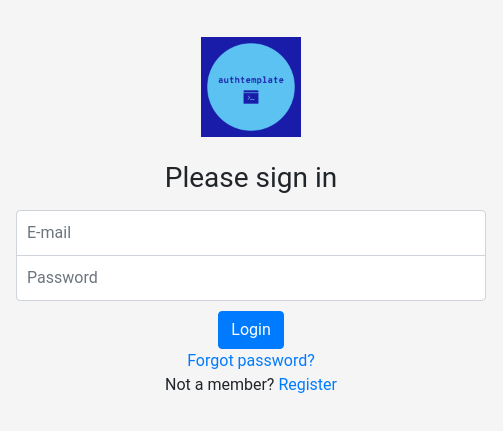
Login page checks › Email and password required
What coordinates should you click on to do the following:
click the button with test id "loginBtn"
I would click on:
 (251, 330)
Its box is [218,311,284,349].
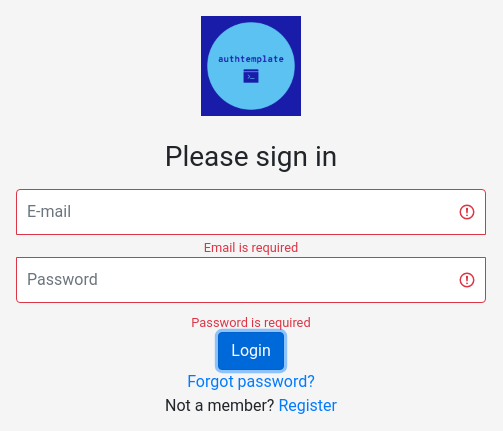
Result: the text with test id "loginEmailError" reads "Email is required" at [204,240,298,255]
Result: the text with test id "loginPasswordError" reads "Password is required" at [191,315,310,330]
